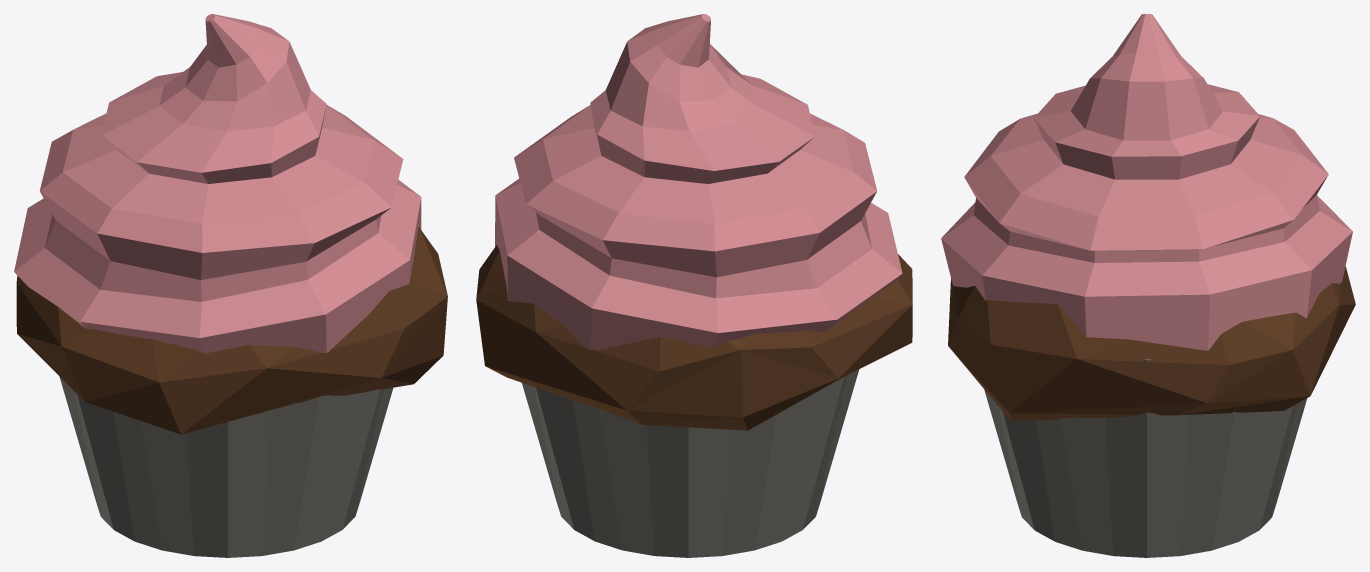
The model's file is cc0-cupcake-lod0.glb.
The picture shows the model from 3 angles, left to right: view 1: azimuth 30°, elevation 25°; view 2: azimuth 150°, elevation 25°; view 3: azimuth 270°, elevation 25°; orthographic projection.
Visible parts, largest first — view 1: part_0; view 2: part_0; view 3: part_0.
Part boxes in pixels (<box>): part_0: <box>14,14,447,557</box>; part_0: <box>476,14,912,557</box>; part_0: <box>941,14,1355,557</box>.
Bounding box in the file's own units: 0.7342 × 0.9316 × 0.7258.
